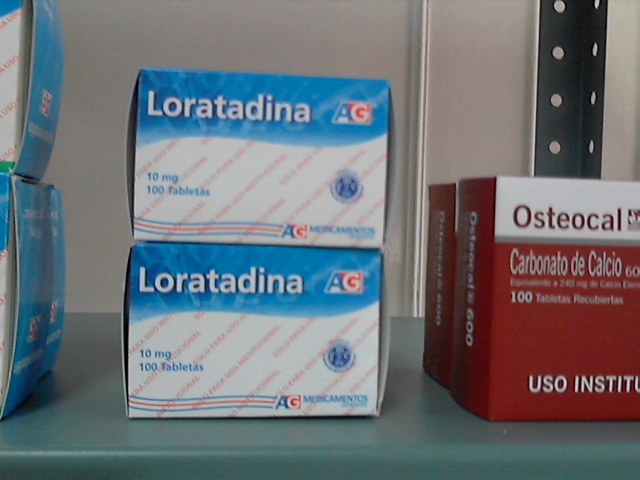AG: (136, 68, 386, 246), (130, 246, 379, 416)
